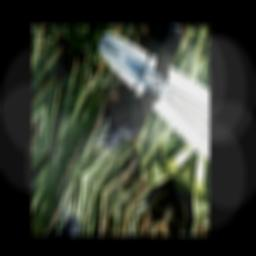Crow: (96, 64, 164, 167)
